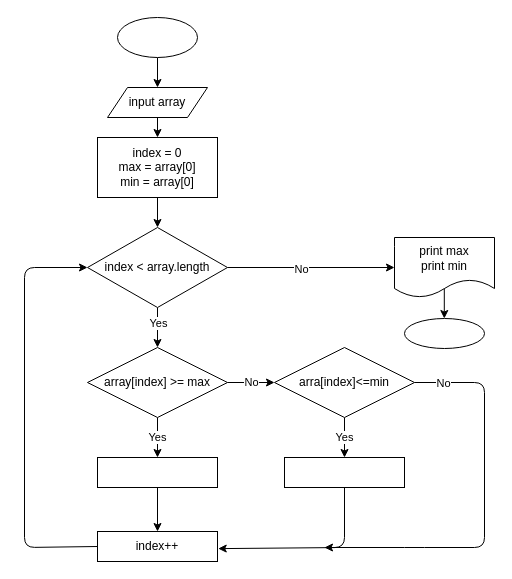
Some shapes in this 512 by 579 pixel diagram are drawn without their labels. Each missing label, with the centre of its shape:
finish: [444,333]
max = array[index]: [157,472]
min = array[index]: [344,472]
start: [157,37]
